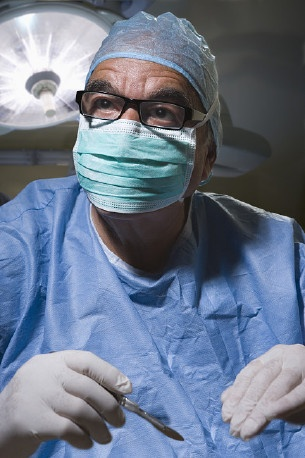Mask: (73, 75, 216, 218)
